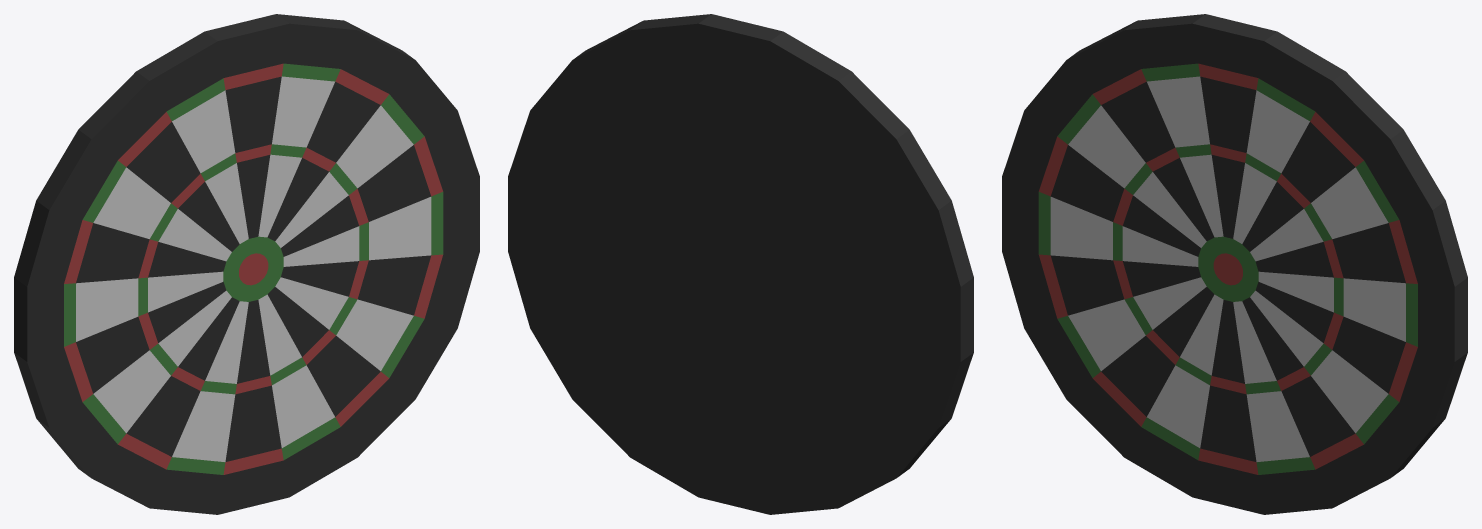
Rendered from Cible.fbx.
3 renders of one model, left to right at view 1: azimuth 30°, elevation 25°; view 2: azimuth 150°, elevation 25°; view 3: azimuth 330°, elevation 25°, orthographic.
Parts seen in each view (by area): view 1: Cible; view 2: Cible; view 3: Cible.
Boxes of the visible parts, left/top/right/bottom form: Cible: left=14, top=14, right=479, bottom=514; Cible: left=508, top=14, right=973, bottom=514; Cible: left=1002, top=14, right=1467, bottom=514.
Size of the model in its own units: 49.38 by 49.38 by 2.5.
